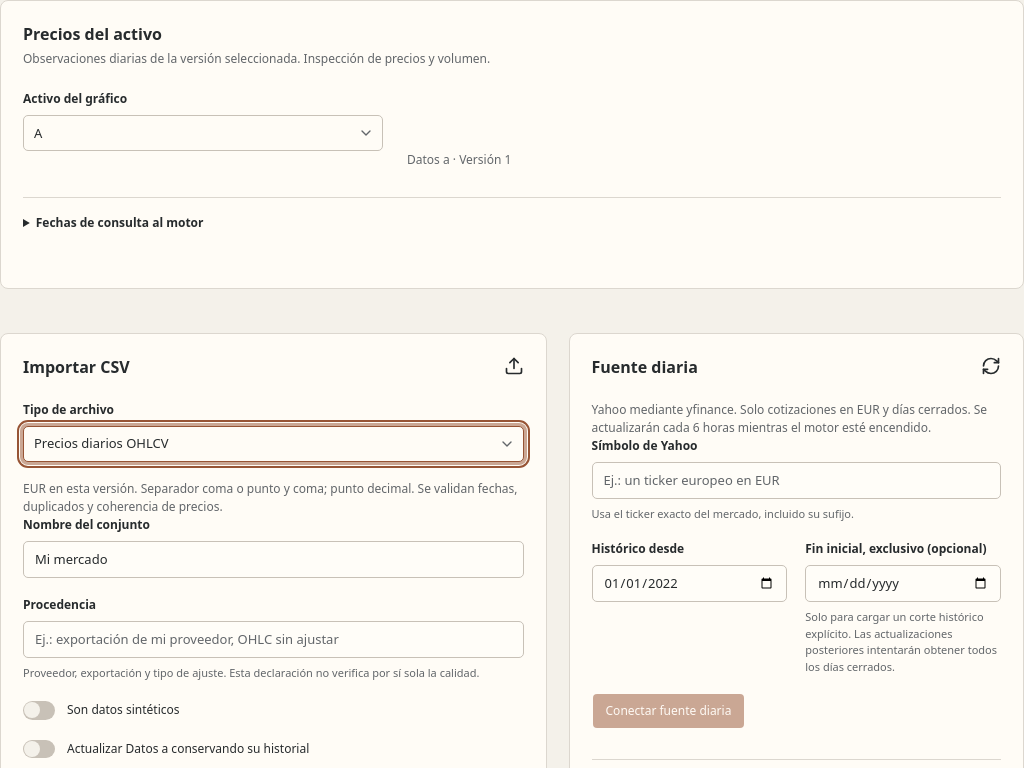
Scenario: Confirmación de movimientos › confirma el CSV revisado con el token del servidor
Press Arrowdown
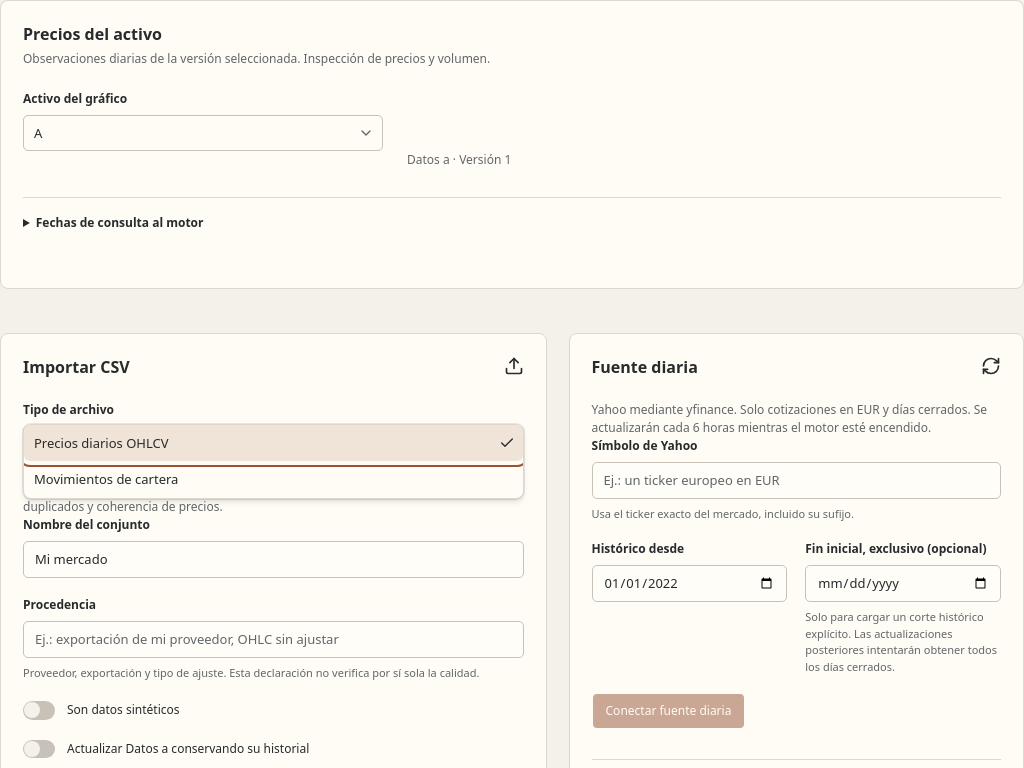
Click the option "Movimientos de cartera". click: (106, 479)
box: [34,470,178,488]
(page scrolled)
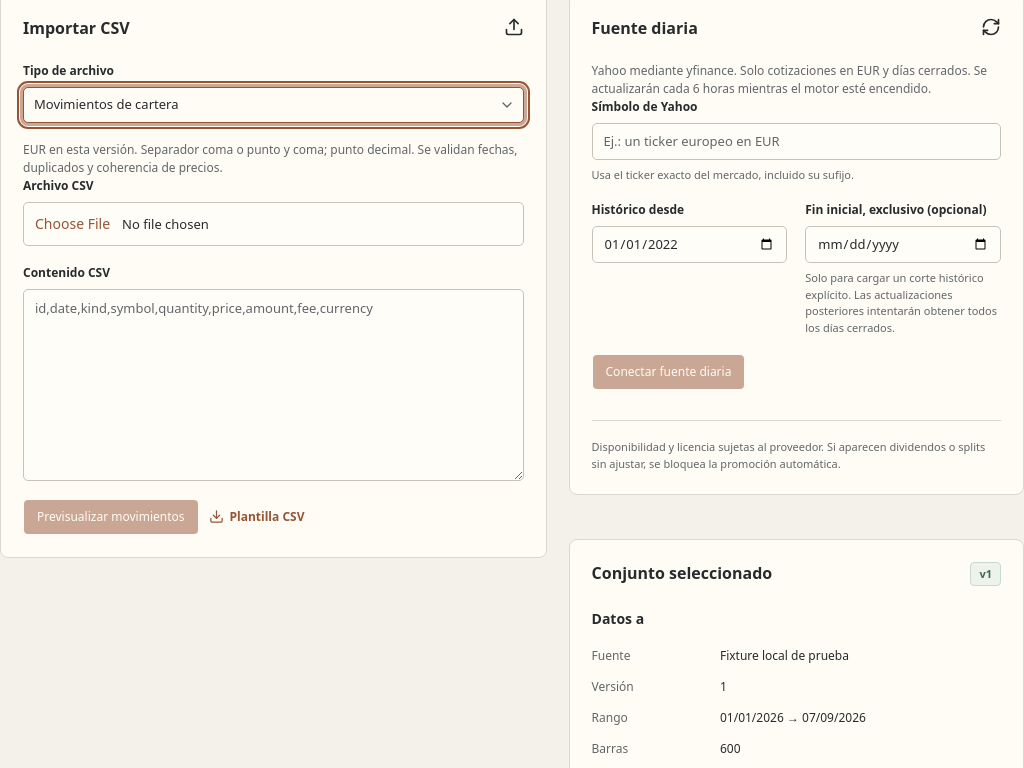
Type "csv-reviewed" into the text box labelled "Contenido CSV". click: (273, 385)
box: [23,289,524,481]
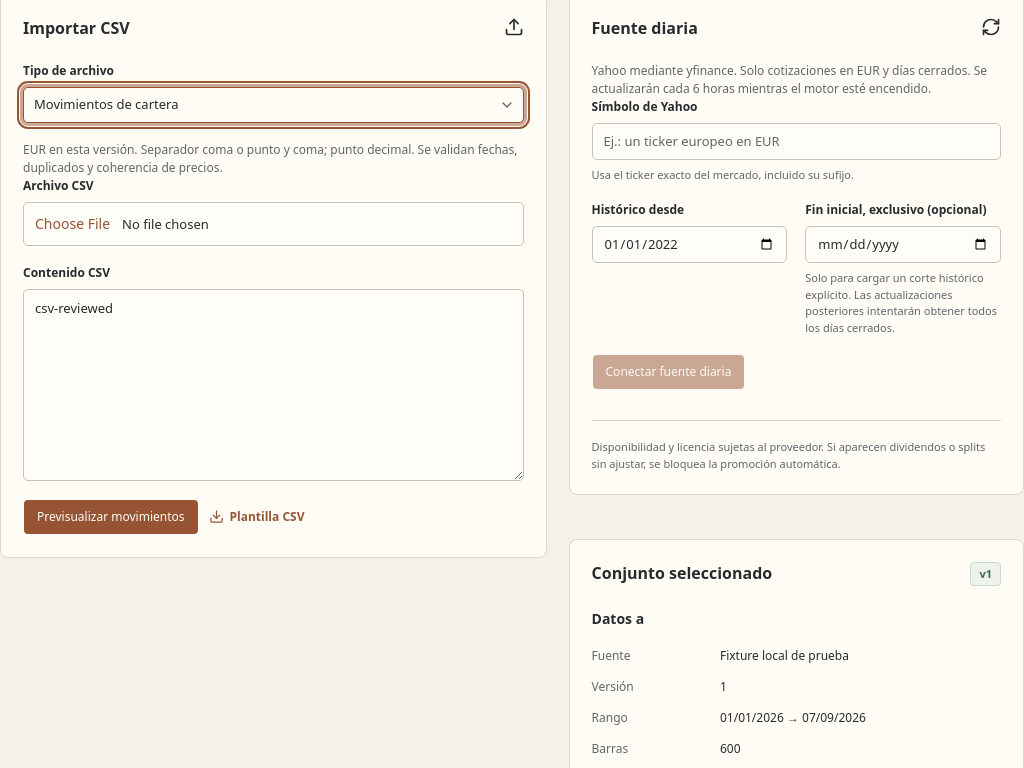
Click the button "Previsualizar movimientos". click: (111, 517)
box: [23,499,198,535]
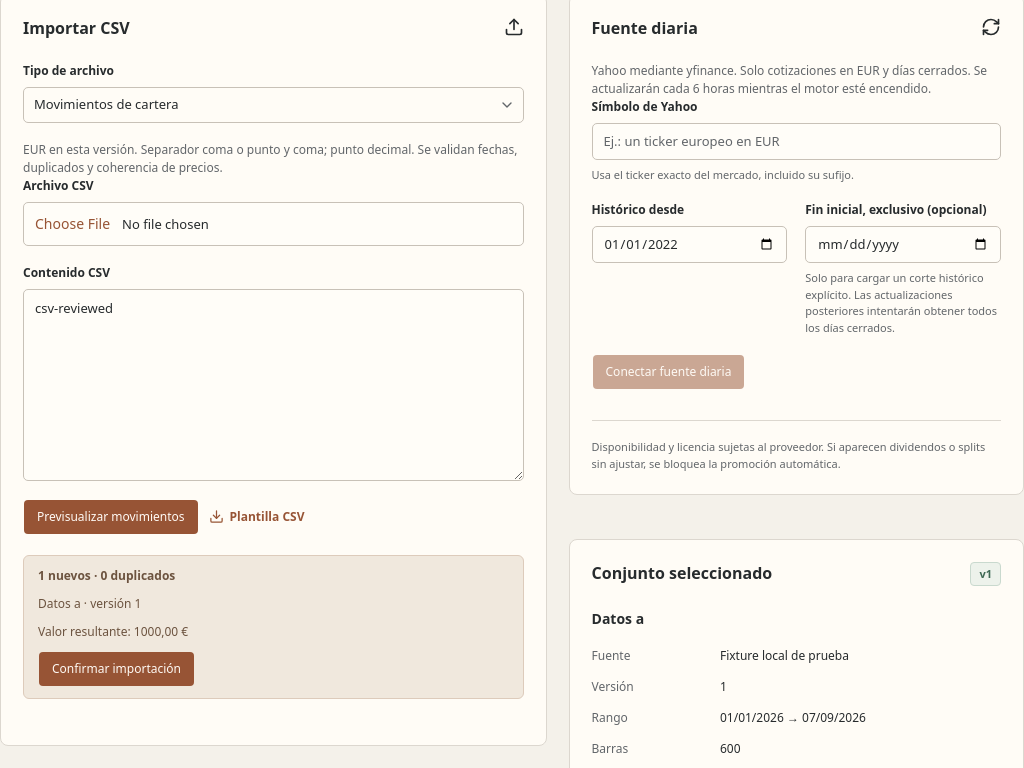
Click the button "Confirmar importación". click: (116, 669)
box: [38,651,195,687]
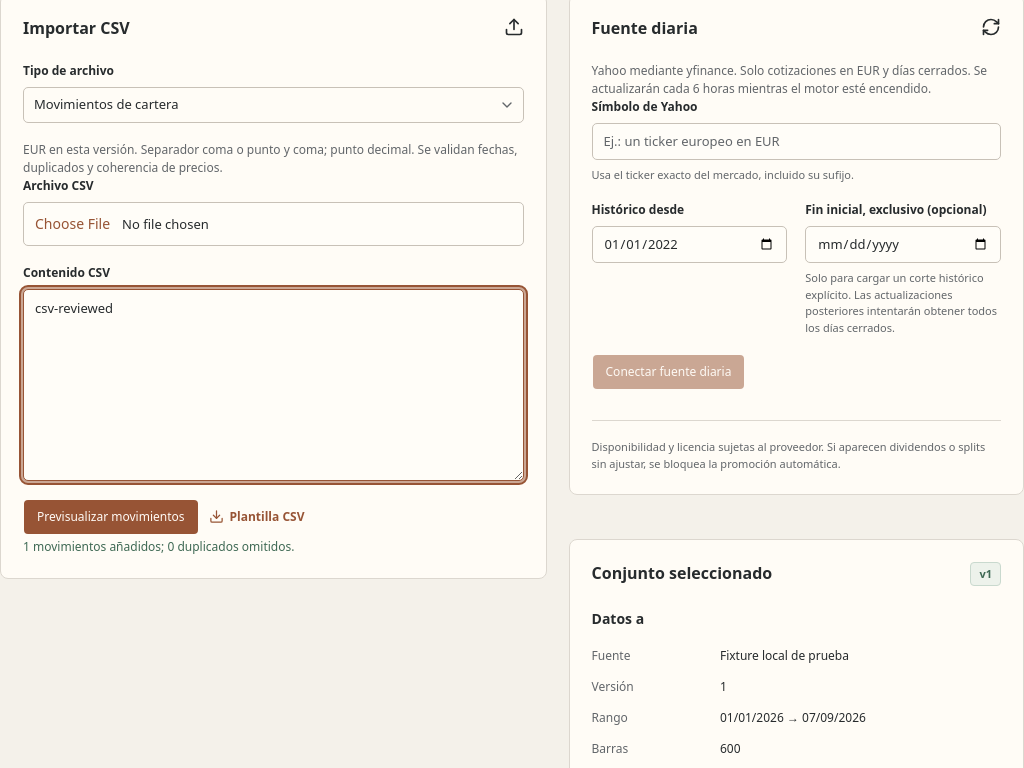
Expected: the button "Confirmar importación" is gone
